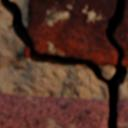broken_brick: (28, 0, 116, 65), (0, 92, 108, 127), (113, 0, 127, 66), (117, 99, 127, 127), (24, 45, 28, 57)
crack: (0, 0, 127, 127)
